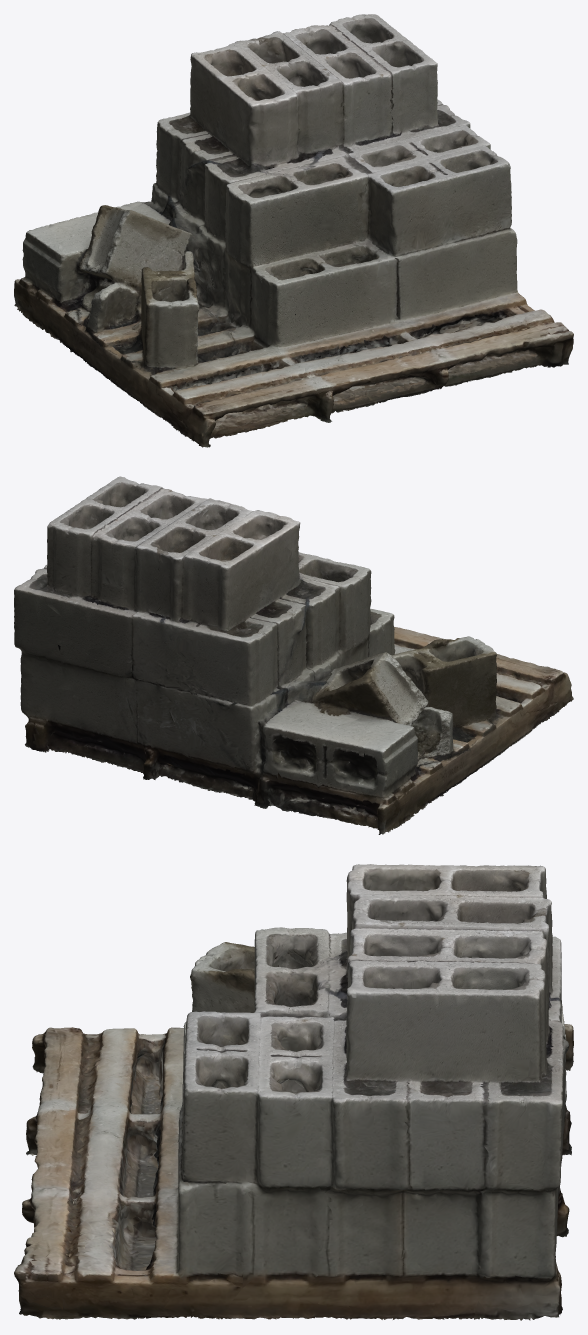
Rendered from Construction Pallet.fbx.
3 views of the same model, one above another, from view 1: azimuth 30°, elevation 25°; view 2: azimuth 150°, elevation 25°; view 3: azimuth 270°, elevation 25° (orthographic). The views are drawn at different scales.
Visible parts, largest first — view 1: texturedMesh; view 2: texturedMesh; view 3: texturedMesh.
Part boxes in pixels (<box>): texturedMesh: <box>14,14,573,447</box>; texturedMesh: <box>14,476,573,834</box>; texturedMesh: <box>14,864,573,1320</box>.
Bounding box in the file's own units: 67.84 × 38.87 × 61.61.
